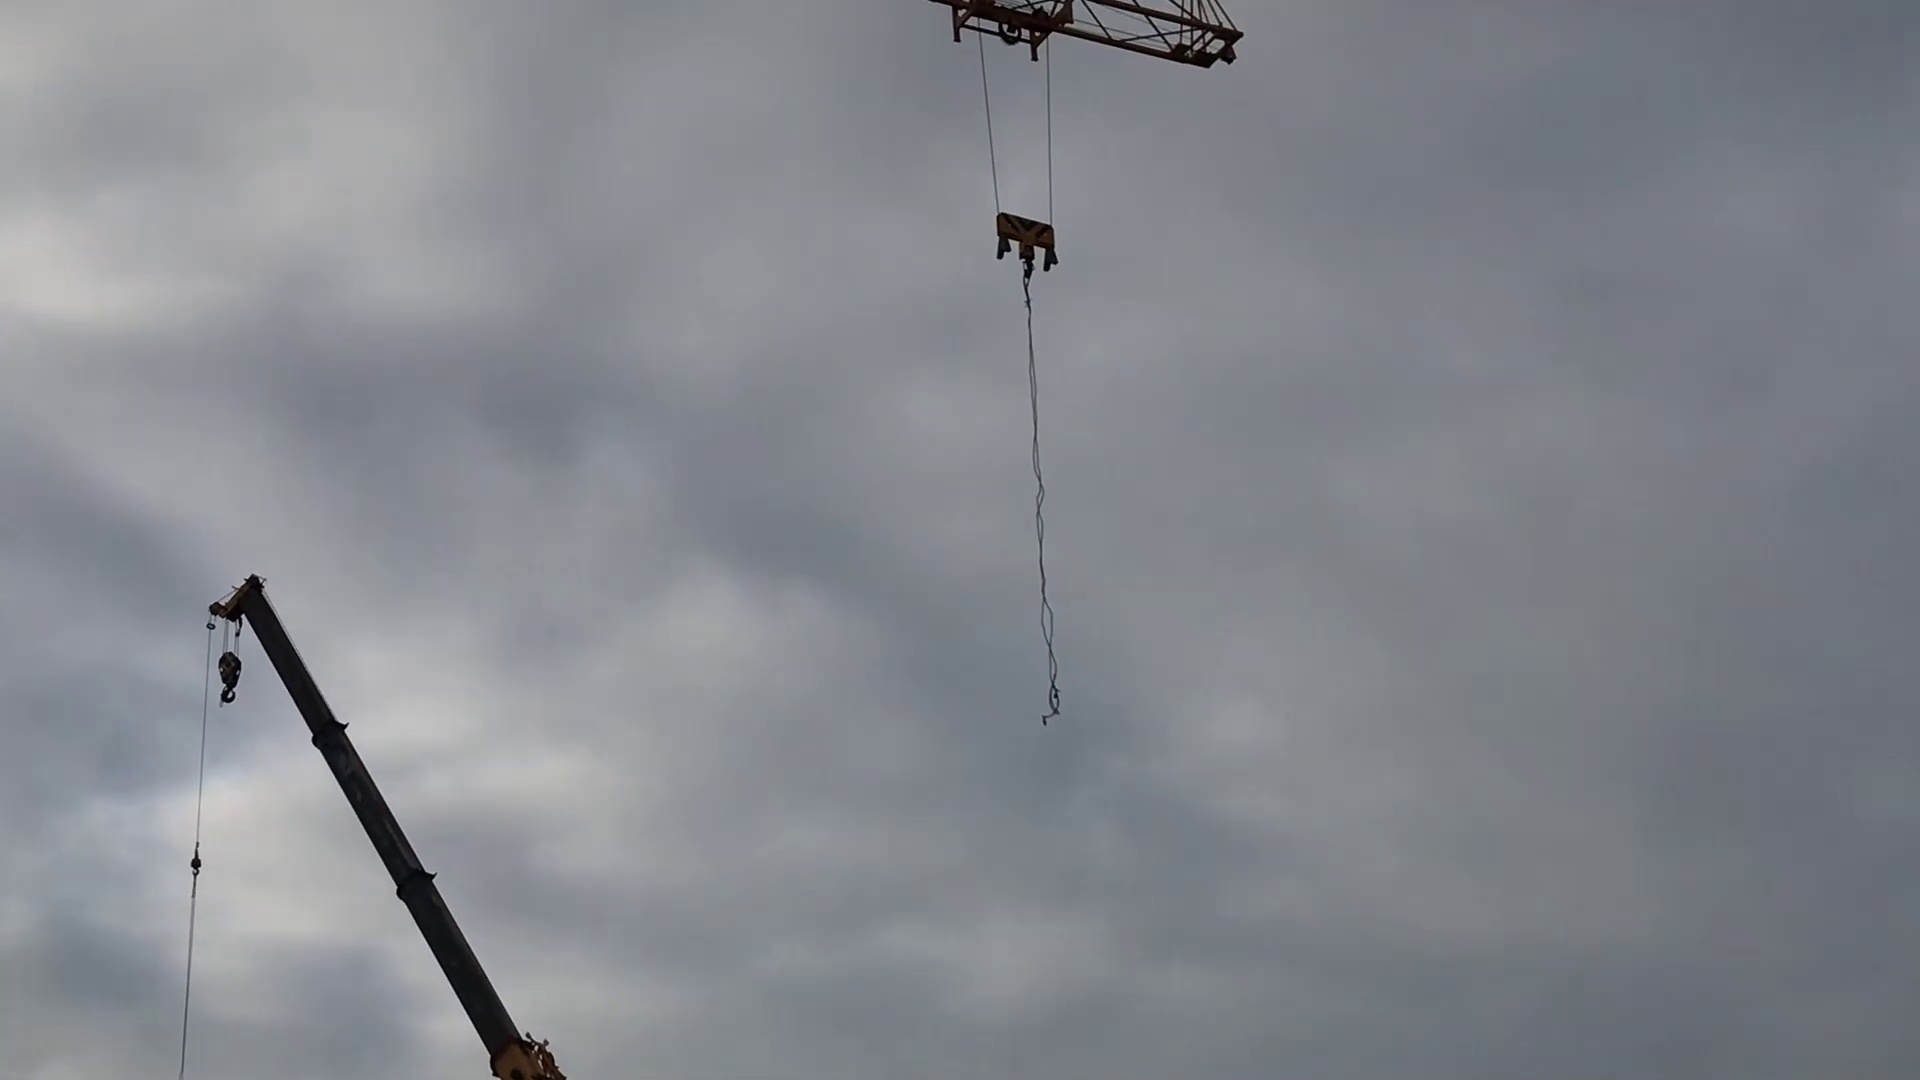hook: (990, 200, 1075, 299), (211, 645, 265, 716)
